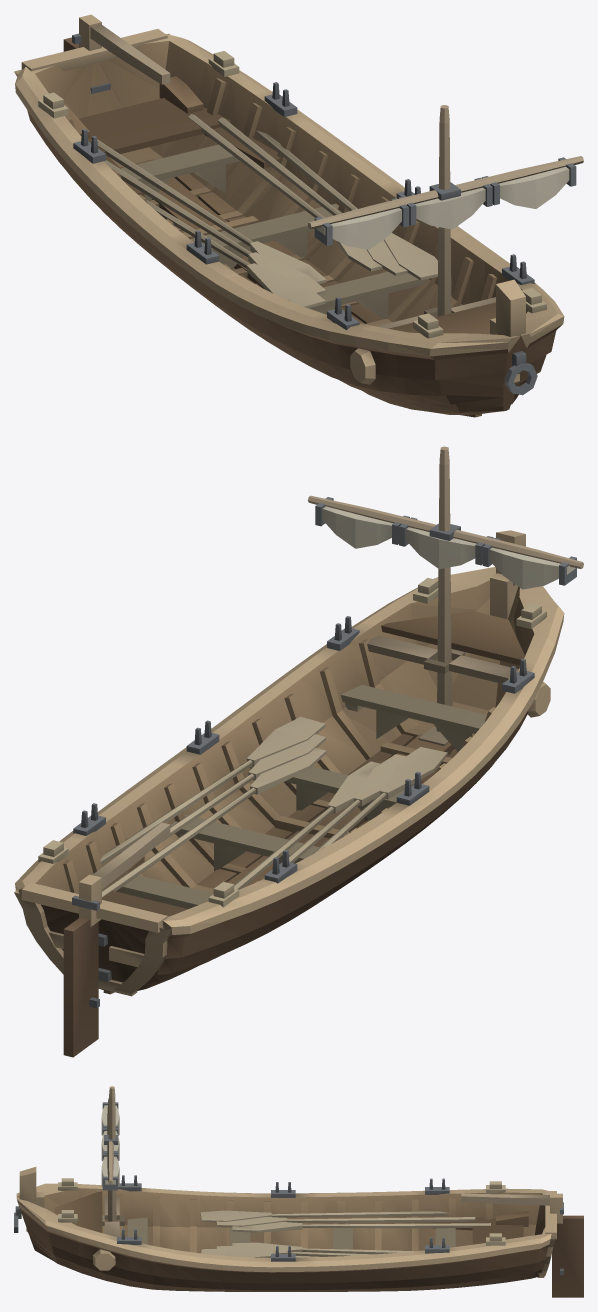
Rendered from longboat.glb.
3 renders of one model, top to bottom at view 1: azimuth 30°, elevation 25°; view 2: azimuth 150°, elevation 25°; view 3: azimuth 270°, elevation 25°, orthographic. The views are drawn at different scales.
Parts seen in each view (by area): view 1: longboat; view 2: longboat; view 3: longboat.
Boxes of the visible parts, x1,y1,x2,y2 form: longboat: [14, 14, 583, 417]; longboat: [14, 446, 583, 1057]; longboat: [14, 1086, 583, 1297].
Bounding box in the file's own units: 2.4 × 2.8 × 6.93.
